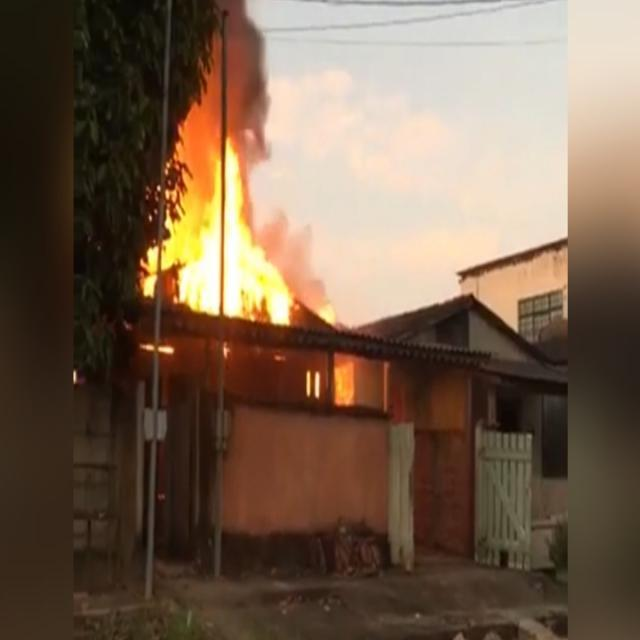Fire: (223, 134, 253, 319), (252, 240, 298, 327), (202, 148, 220, 316), (178, 194, 202, 312), (161, 185, 178, 272), (142, 243, 160, 296), (334, 363, 354, 406), (318, 302, 336, 327), (306, 369, 320, 400), (140, 344, 172, 354), (222, 342, 230, 358)
Smoke: (205, 0, 270, 134), (272, 210, 314, 264), (290, 264, 328, 304)
